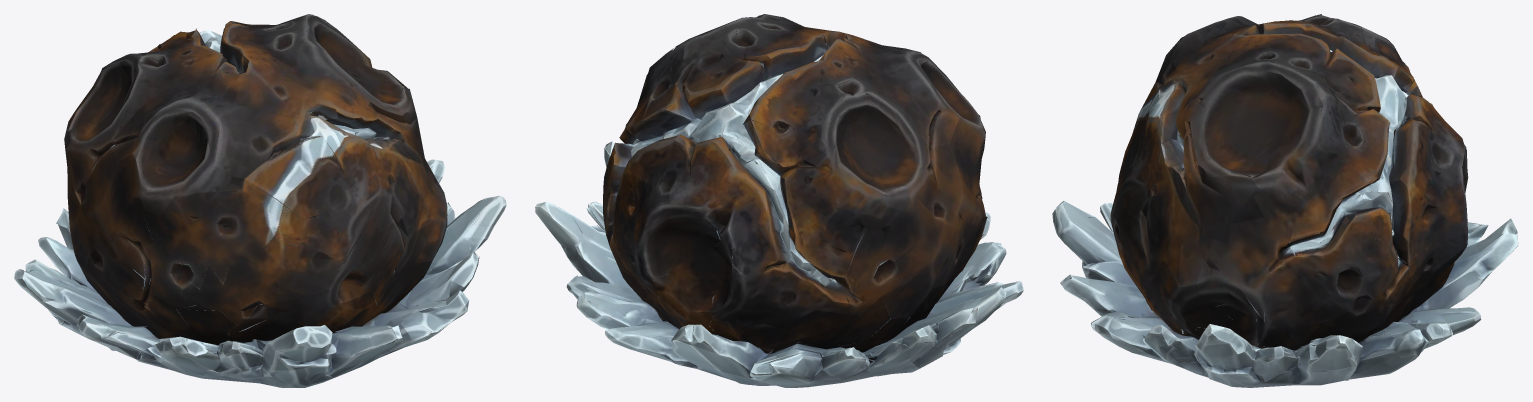
Rendered from east_meteor.glb.
3 renders of one model, left to right at view 1: azimuth 30°, elevation 25°; view 2: azimuth 150°, elevation 25°; view 3: azimuth 270°, elevation 25°, orthographic. The views are drawn at different scales.
Parts seen in each view (by area): view 1: Mesh_0; view 2: Mesh_0; view 3: Mesh_0.
Boxes of the visible parts, box(x1,y1,x2,y2) form: Mesh_0: box(14, 14, 506, 387); Mesh_0: box(535, 14, 1023, 387); Mesh_0: box(1052, 14, 1518, 387).
Bounding box in the file's own units: 7.15 × 4.8 × 6.57.
Materials: 1 (1 with a texture image).
